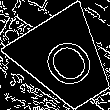O_SE: (32, 28, 100, 95)
